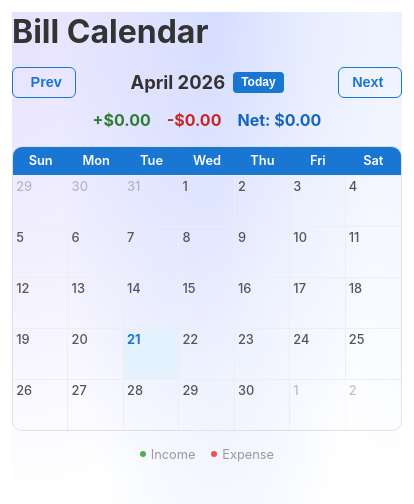
BillCalendarView › navigates to previous month
Click the button with class "nav-btn" showing "Prev" at (44, 82), box 12,67 -> 76,98
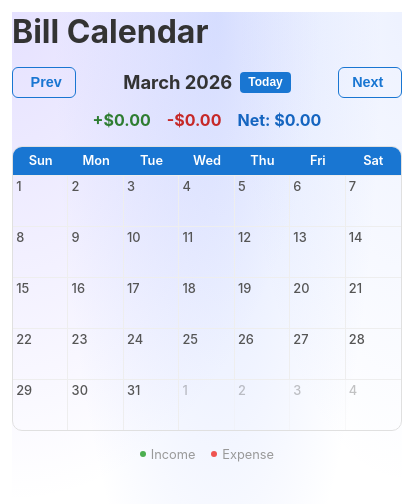
Result: the text "March" is shown at 123,71 -> 232,93
